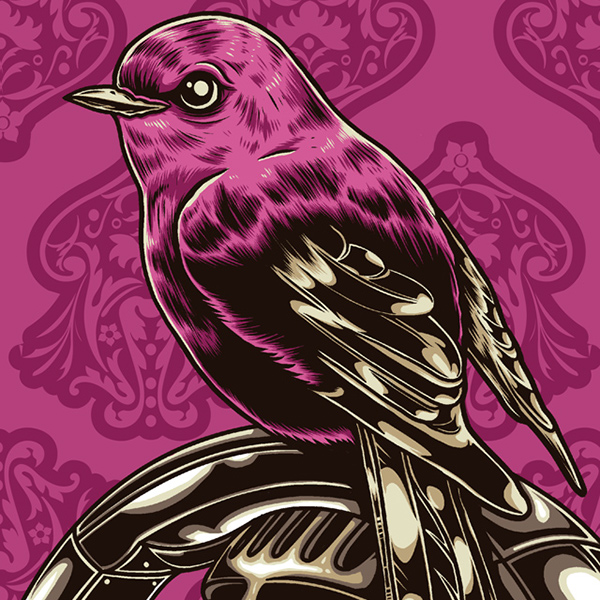bird: (64, 1, 594, 598)
